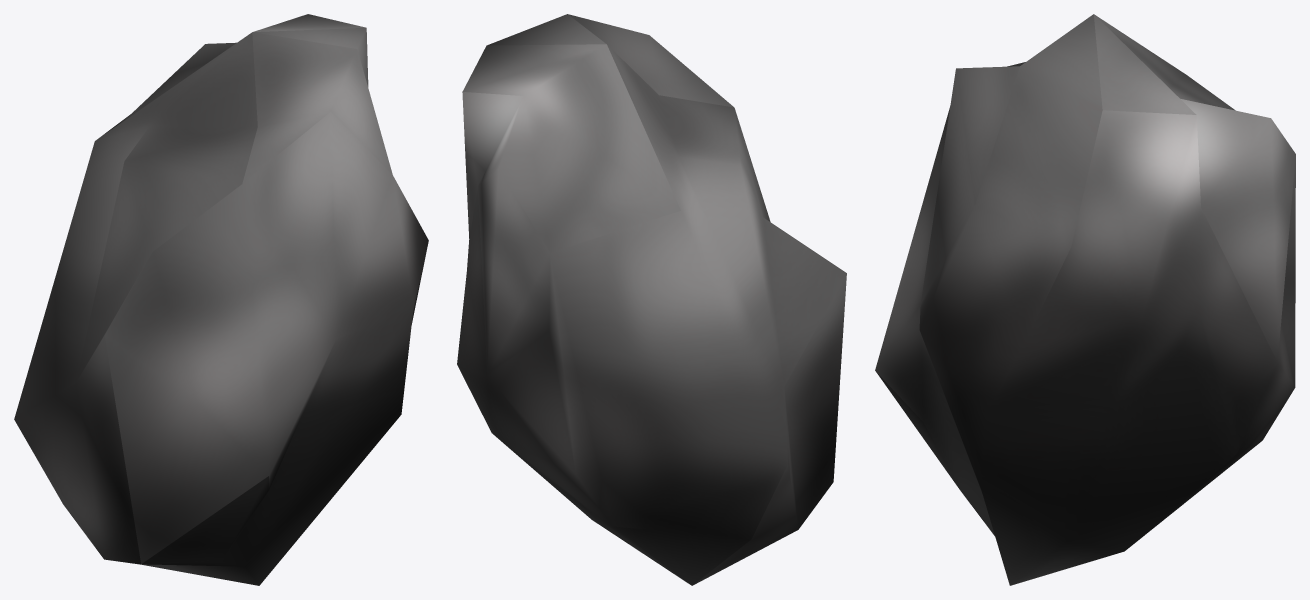
Rendered from RockLarge.fbx.
3 views of the same model, side by side, from view 1: azimuth 30°, elevation 25°; view 2: azimuth 150°, elevation 25°; view 3: azimuth 270°, elevation 25° (orthographic). The views are drawn at different scales.
Parts seen in each view (by area): view 1: RockLarge; view 2: RockLarge; view 3: RockLarge.
Part boxes in pixels (left/top/right/bottom): RockLarge: left=14, top=14, right=428, bottom=585; RockLarge: left=457, top=14, right=846, bottom=585; RockLarge: left=875, top=14, right=1295, bottom=585.
Size of the model in its own units: 2.36 by 3.29 by 2.13.
1 material, 1 textured.
